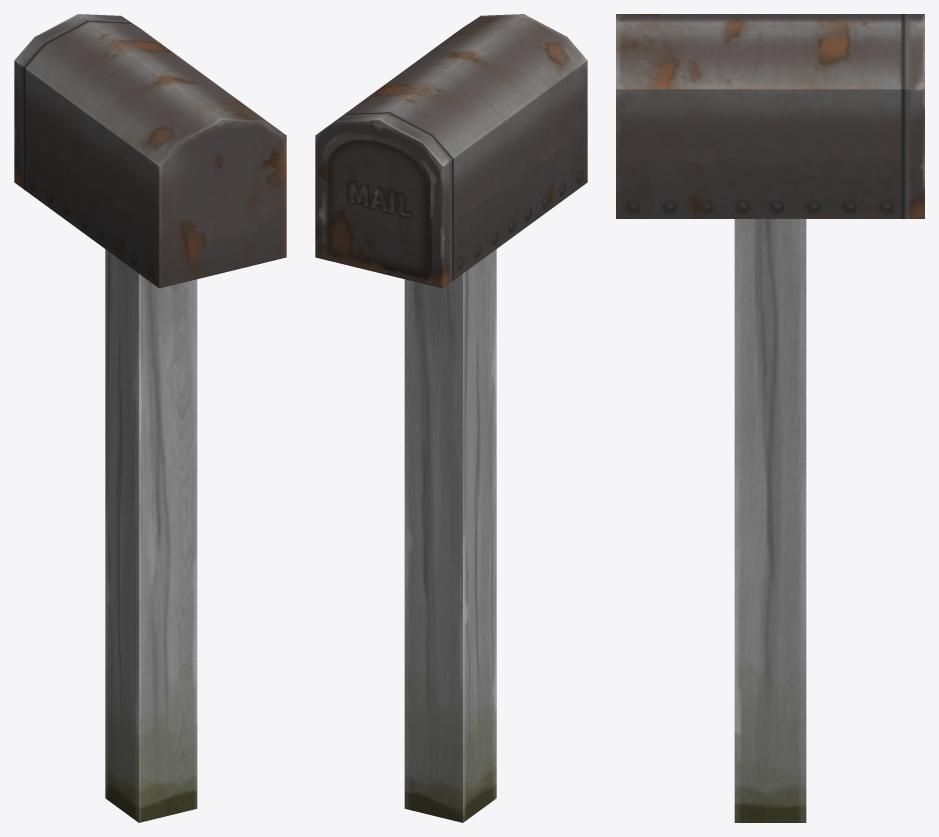
File: FIG0110008.FBX
3 renders of one model, left to right at view 1: azimuth 30°, elevation 25°; view 2: azimuth 150°, elevation 25°; view 3: azimuth 270°, elevation 25°, orthographic. The views are drawn at different scales.
Visible parts, largest first — view 1: smFIG0110008; view 2: smFIG0110008; view 3: smFIG0110008.
Boxes of the visible parts, box(x1,y1,x2,y2) form: smFIG0110008: box(14, 14, 286, 822); smFIG0110008: box(315, 14, 587, 822); smFIG0110008: box(616, 14, 924, 822).
Size of the model in its own units: 21.86 by 121 by 43.09.
1 material, 1 textured.
